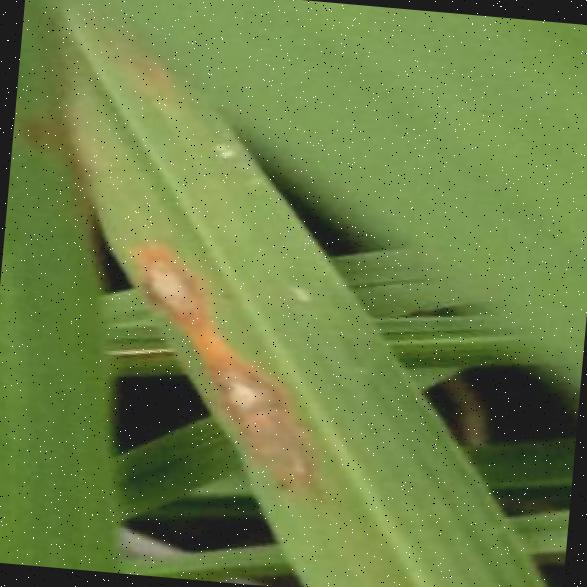Leaf_smut: (171, 335, 348, 494), (116, 212, 220, 328)
